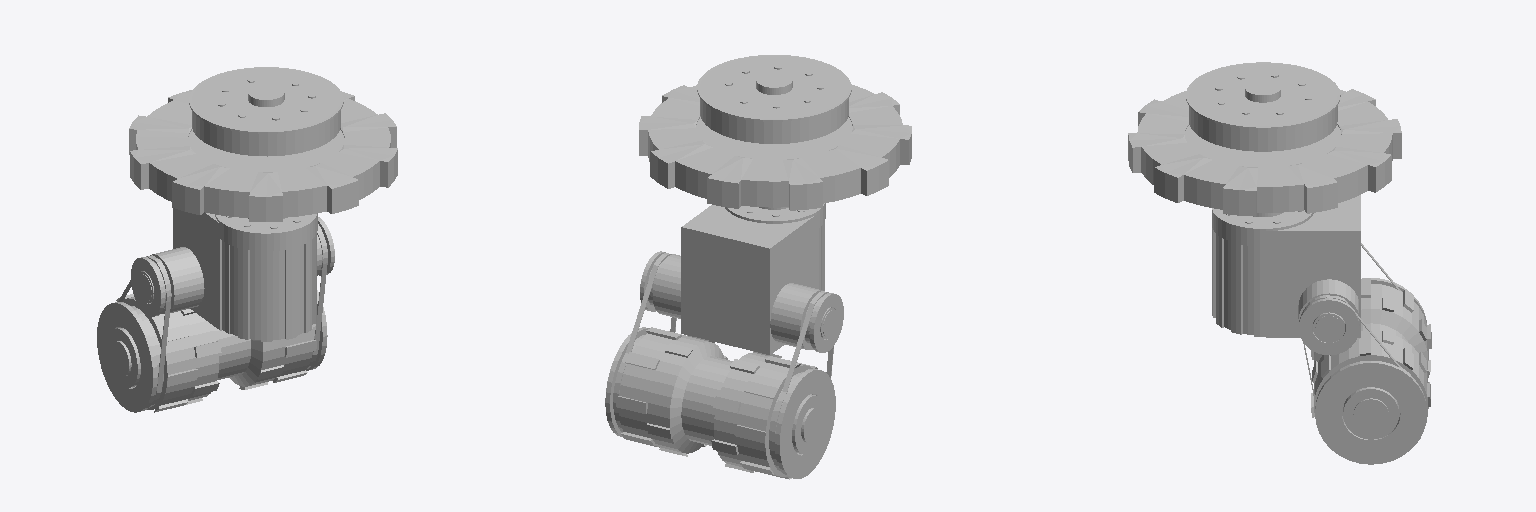
Rendered from Robocik.obj.
3 renders of one model, left to right at view 1: azimuth 30°, elevation 25°; view 2: azimuth 150°, elevation 25°; view 3: azimuth 270°, elevation 25°, orthographic.
Visible parts, largest first — view 1: Cylinder; view 2: Cylinder; view 3: Cylinder.
Part boxes in pixels (x1,y1,x2,y2): Cylinder: (97,67,397,412); Cylinder: (605,55,911,479); Cylinder: (1128,62,1431,464).
Size of the model in its own units: 2.81 by 3.85 by 3.13.